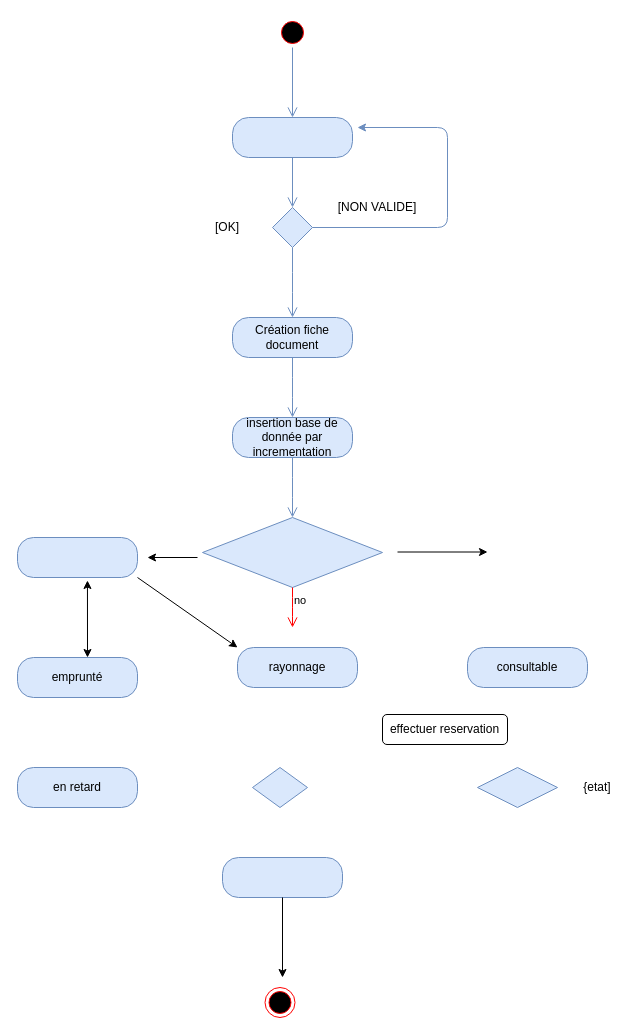
Some shapes in this 635 by 1035 pixel diagram are drawn without their labels. Each missing label, with the box of its shape:
classification document: (202, 516, 382, 588)
destruction: (222, 856, 342, 898)
enpruntable: (16, 536, 138, 578)
identification: (232, 116, 352, 158)
